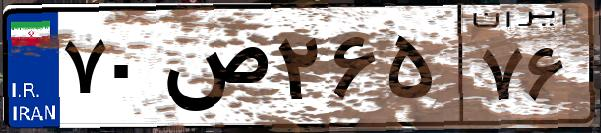0: (110, 28, 158, 98)
2: (270, 28, 330, 110)
5: (385, 28, 445, 110)
6: (330, 28, 385, 110), (525, 38, 570, 115)
7: (57, 26, 110, 100), (475, 38, 525, 113)
ص: (158, 20, 270, 120)
